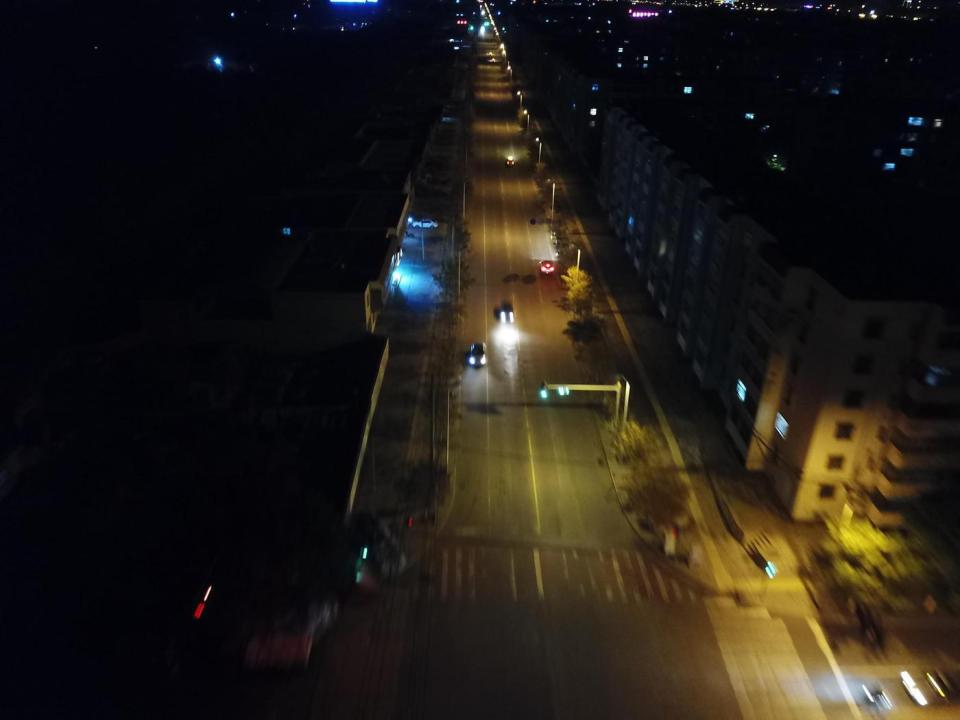car: (930, 665, 960, 706), (900, 670, 928, 707), (862, 681, 892, 714), (468, 342, 486, 368), (499, 301, 514, 323), (412, 218, 438, 228), (540, 260, 554, 274), (506, 156, 514, 166), (483, 20, 490, 25), (484, 15, 488, 19), (492, 58, 495, 63), (489, 52, 492, 56)
truck: (419, 172, 451, 196)
